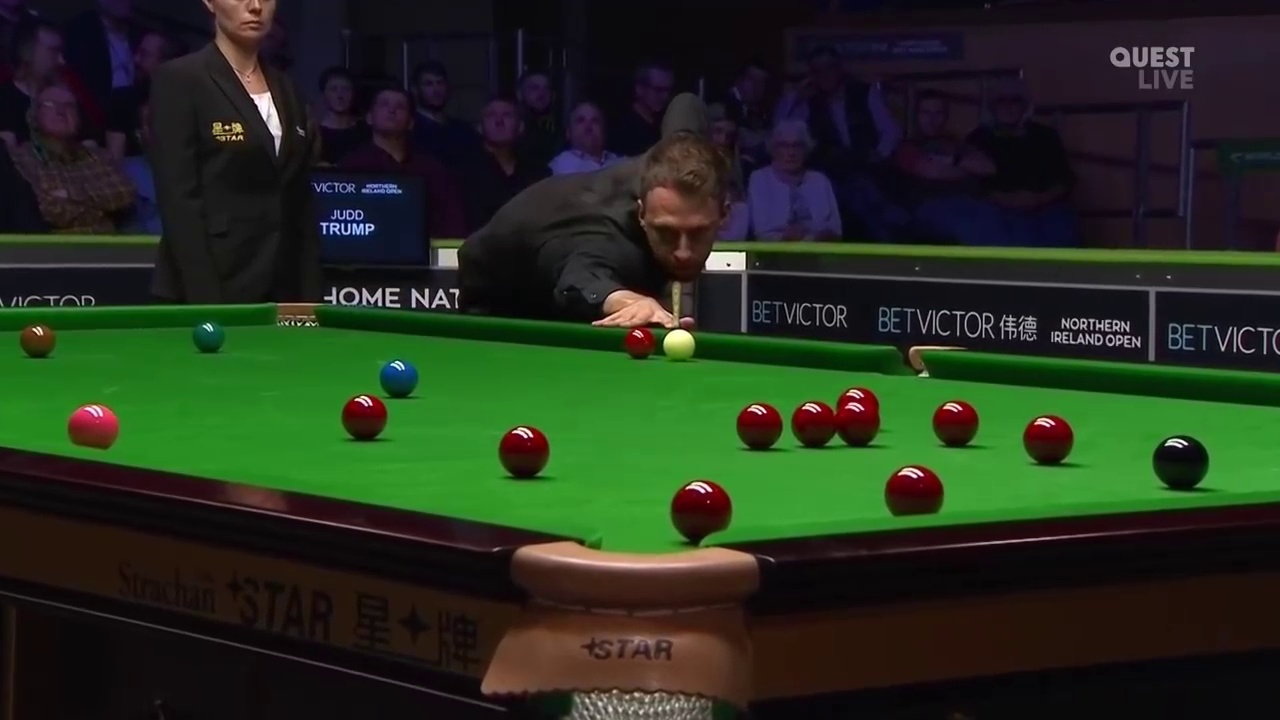ball: (1151, 435, 1212, 487), (929, 396, 980, 447), (495, 427, 547, 474), (1023, 416, 1072, 464), (791, 399, 837, 444), (736, 401, 782, 445), (338, 395, 385, 436), (376, 360, 419, 397), (663, 327, 699, 359), (19, 323, 55, 354), (194, 323, 223, 349), (626, 328, 652, 355)
